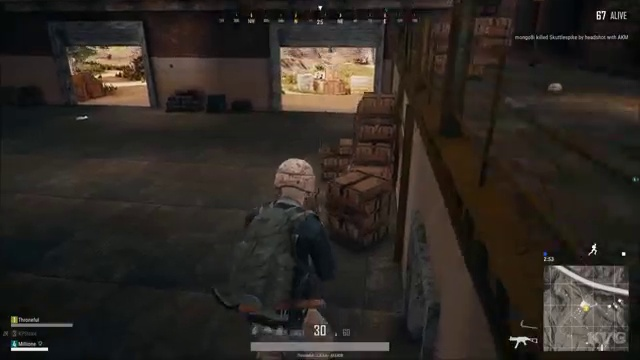Player: (207, 156, 362, 305)
